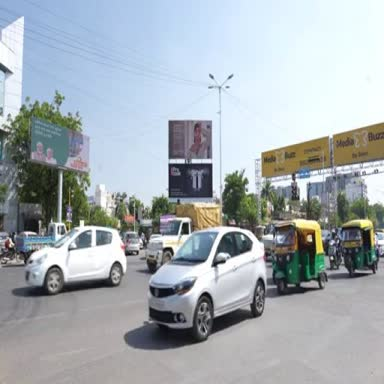Car: (148, 227, 266, 341), (26, 226, 126, 295), (123, 232, 140, 256), (321, 230, 331, 254), (150, 234, 161, 241), (138, 237, 143, 249)
